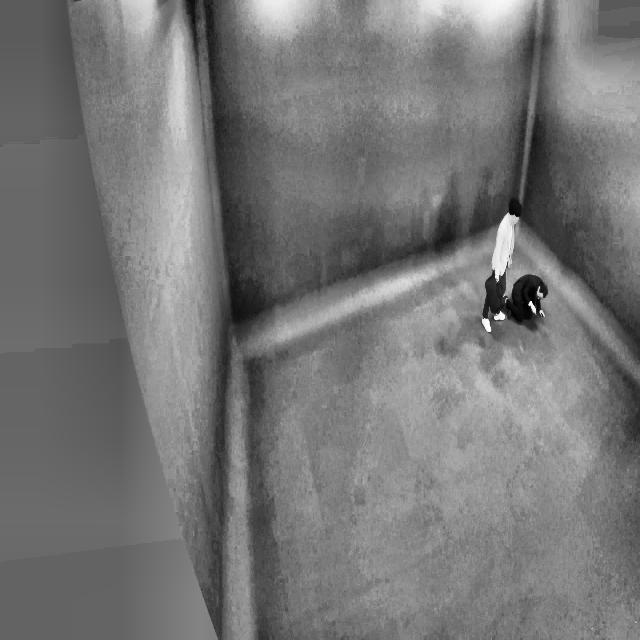assult: (480, 185, 556, 336)
